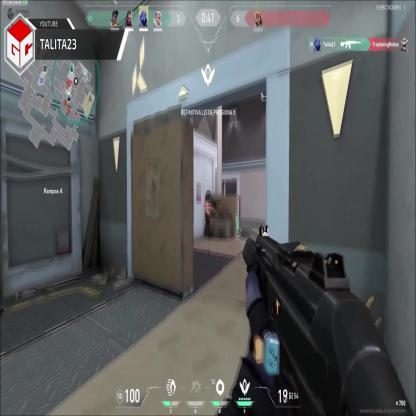enemy: (202, 190, 212, 238)
enemy_head: (206, 192, 210, 201)
